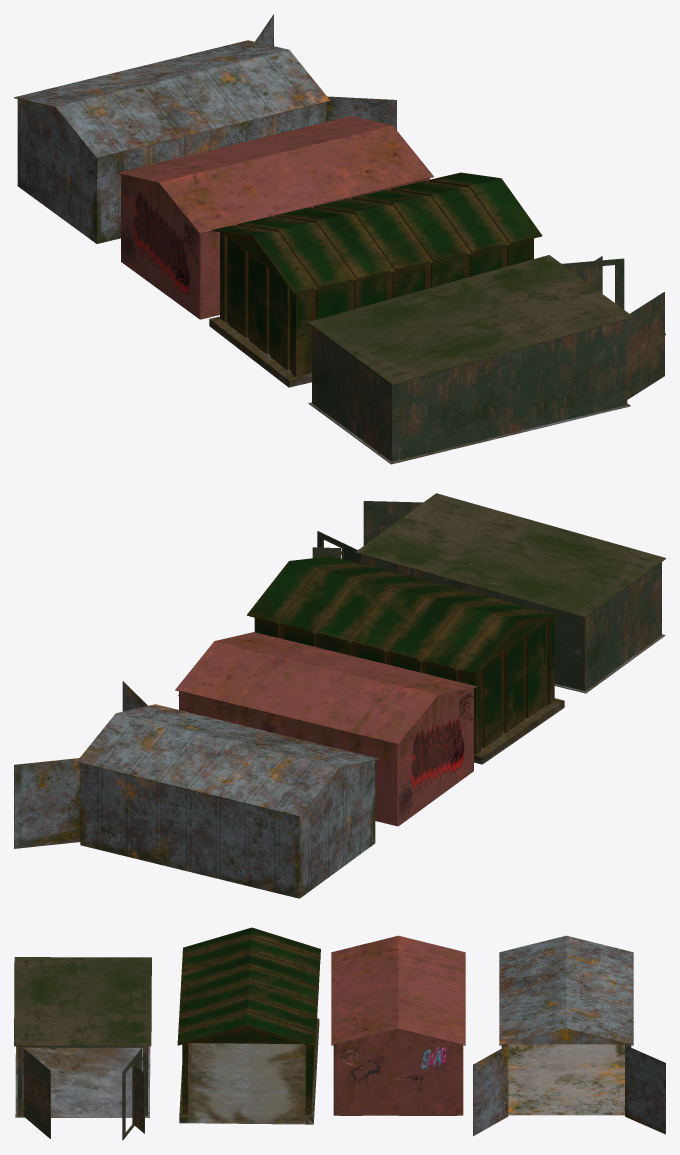
File: garages.gltf
3 views of the same model, one above another, from view 1: azimuth 30°, elevation 25°; view 2: azimuth 150°, elevation 25°; view 3: azimuth 270°, elevation 25° (orthographic). The views are drawn at different scales.
Parts seen in each view (by area): view 1: Body; view 2: Body; view 3: Body.
Part boxes in pixels (<box>): Body: <box>14,14,665,464</box>; Body: <box>14,493,665,898</box>; Body: <box>14,927,665,1140</box>.
Size of the model in its own units: 7.12 by 2.75 by 16.56.
Materials: 4 (4 with a texture image).
